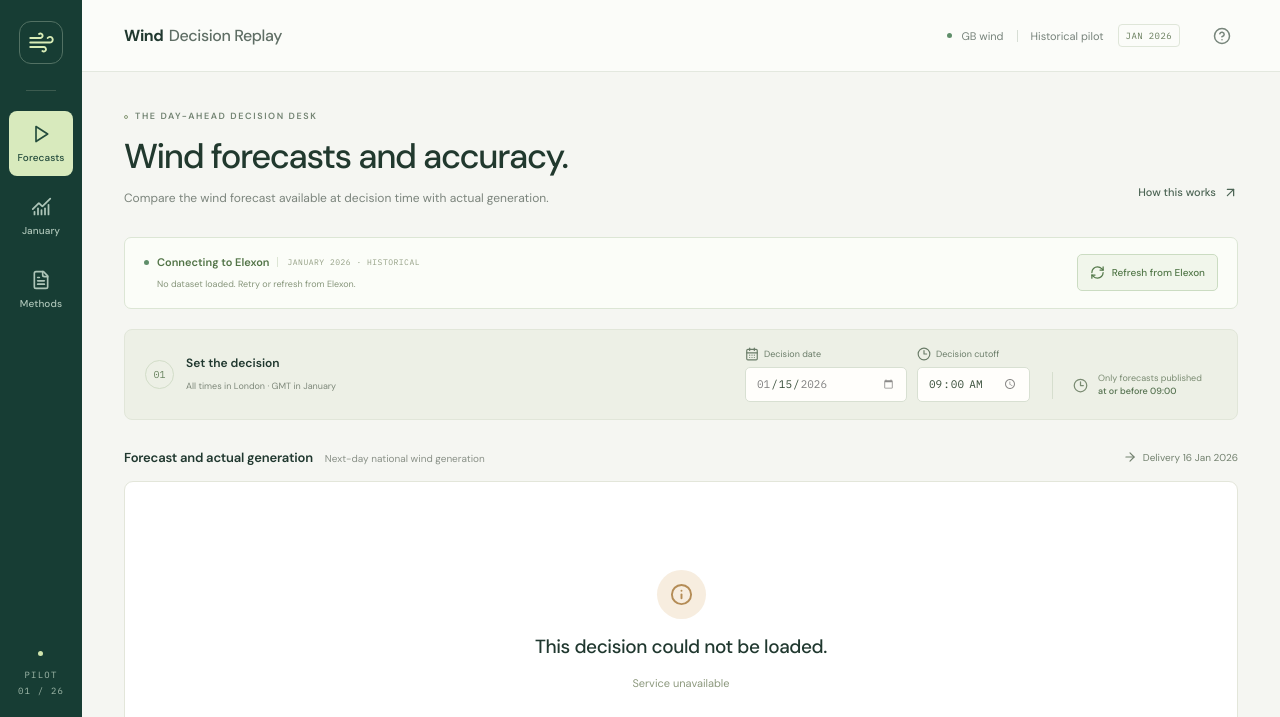
does not claim cached data exists when both initial load and refresh fail
Expected: the heading "This decision could not be loaded." is shown, [535,634,827,659]
Click the button "Refresh from Elexon": (1147, 273) [1077,254,1218,291]
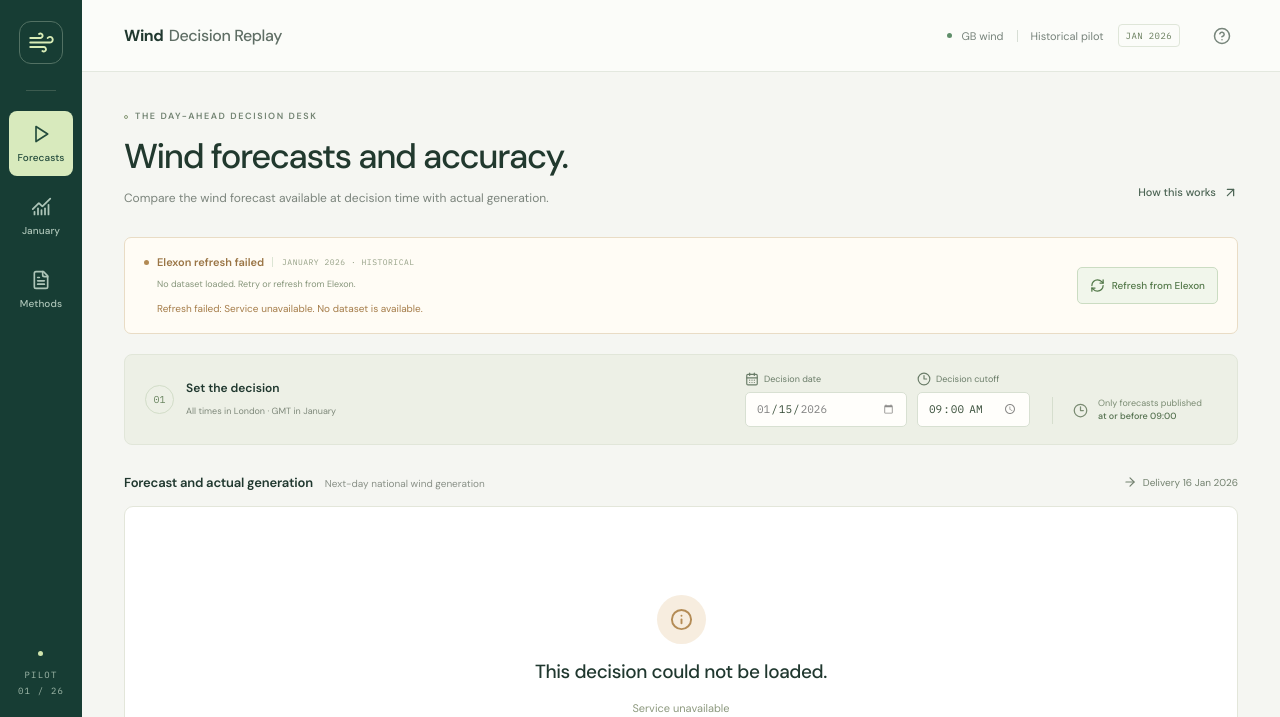
Expected: the text "No dataset loaded. Retry or refresh from Elexon." is shown, [157,277,356,292]
Expected: the text "Elexon refresh failed" is shown, [157,254,264,270]
